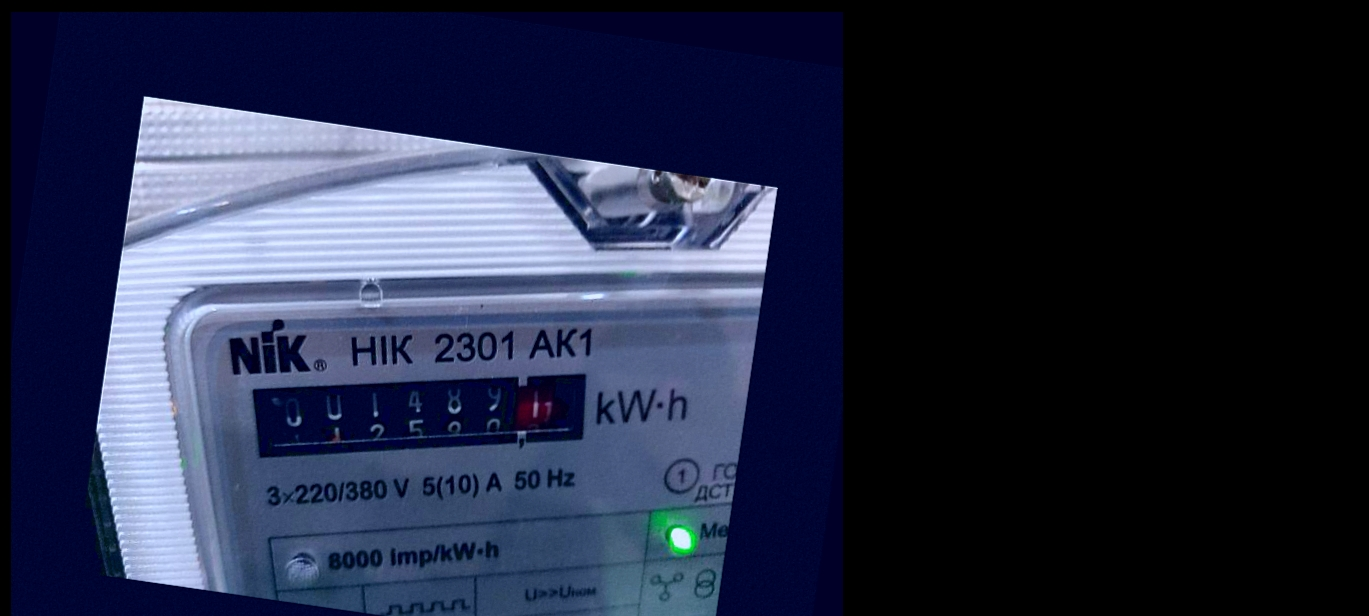0: (319, 385, 350, 424), (280, 393, 308, 431)
1: (524, 382, 549, 422), (364, 387, 388, 421)
4: (403, 383, 429, 417)
8: (443, 381, 469, 419)
9: (483, 380, 507, 415)
screen: (231, 316, 624, 519)
